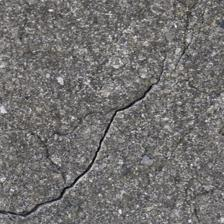Crack: (1, 32, 166, 191)
